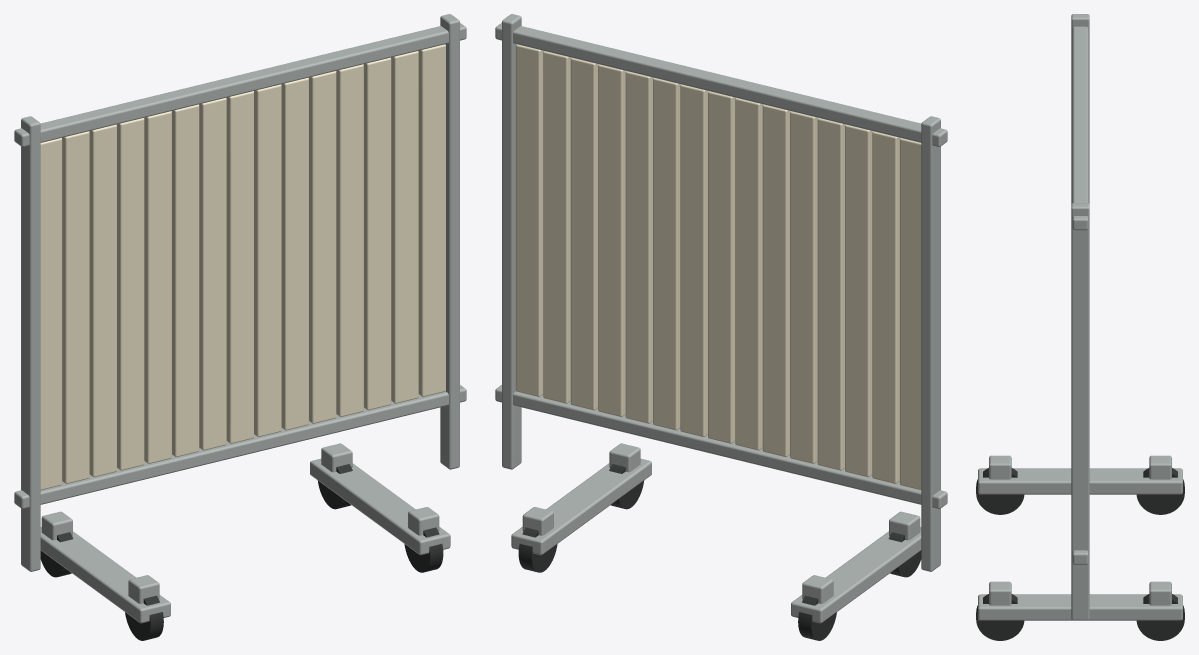
File: cricket-ground-and-pavilion-sight-screen-8094a4f3.glb
3 renders of one model, left to right at view 1: azimuth 30°, elevation 25°; view 2: azimuth 150°, elevation 25°; view 3: azimuth 270°, elevation 25°, orthographic. The views are drawn at different scales.
Parts seen in each view (by area): view 1: sight-screen; view 2: sight-screen; view 3: sight-screen.
Part boxes in pixels (box(x1,y1,x2,y2)): sight-screen: box(14, 14, 466, 640); sight-screen: box(495, 14, 947, 640); sight-screen: box(976, 14, 1184, 640).
Size of the model in its own units: 2.55 by 2.75 by 1.12.
